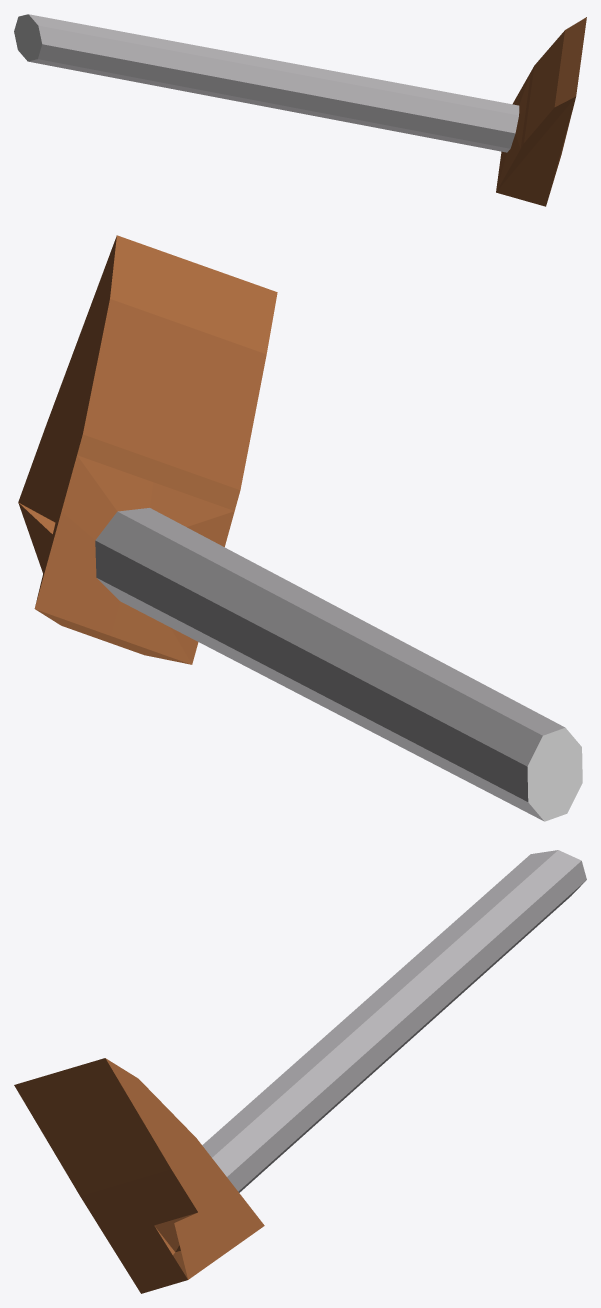
The model's file is Stange_1.fbx.
The picture shows the model from 3 angles, top to bottom: view 1: azimuth 30°, elevation 25°; view 2: azimuth 150°, elevation 25°; view 3: azimuth 270°, elevation 25°; orthographic projection. The views are drawn at different scales.
Visible parts, largest first — view 1: Stange2; view 2: Stange2; view 3: Stange2.
Part boxes in pixels (x1,y1,x2,y2): Stange2: (14, 14, 586, 206); Stange2: (18, 235, 582, 821); Stange2: (14, 850, 586, 1293).
Size of the model in its own units: 185 by 84.19 by 172.
